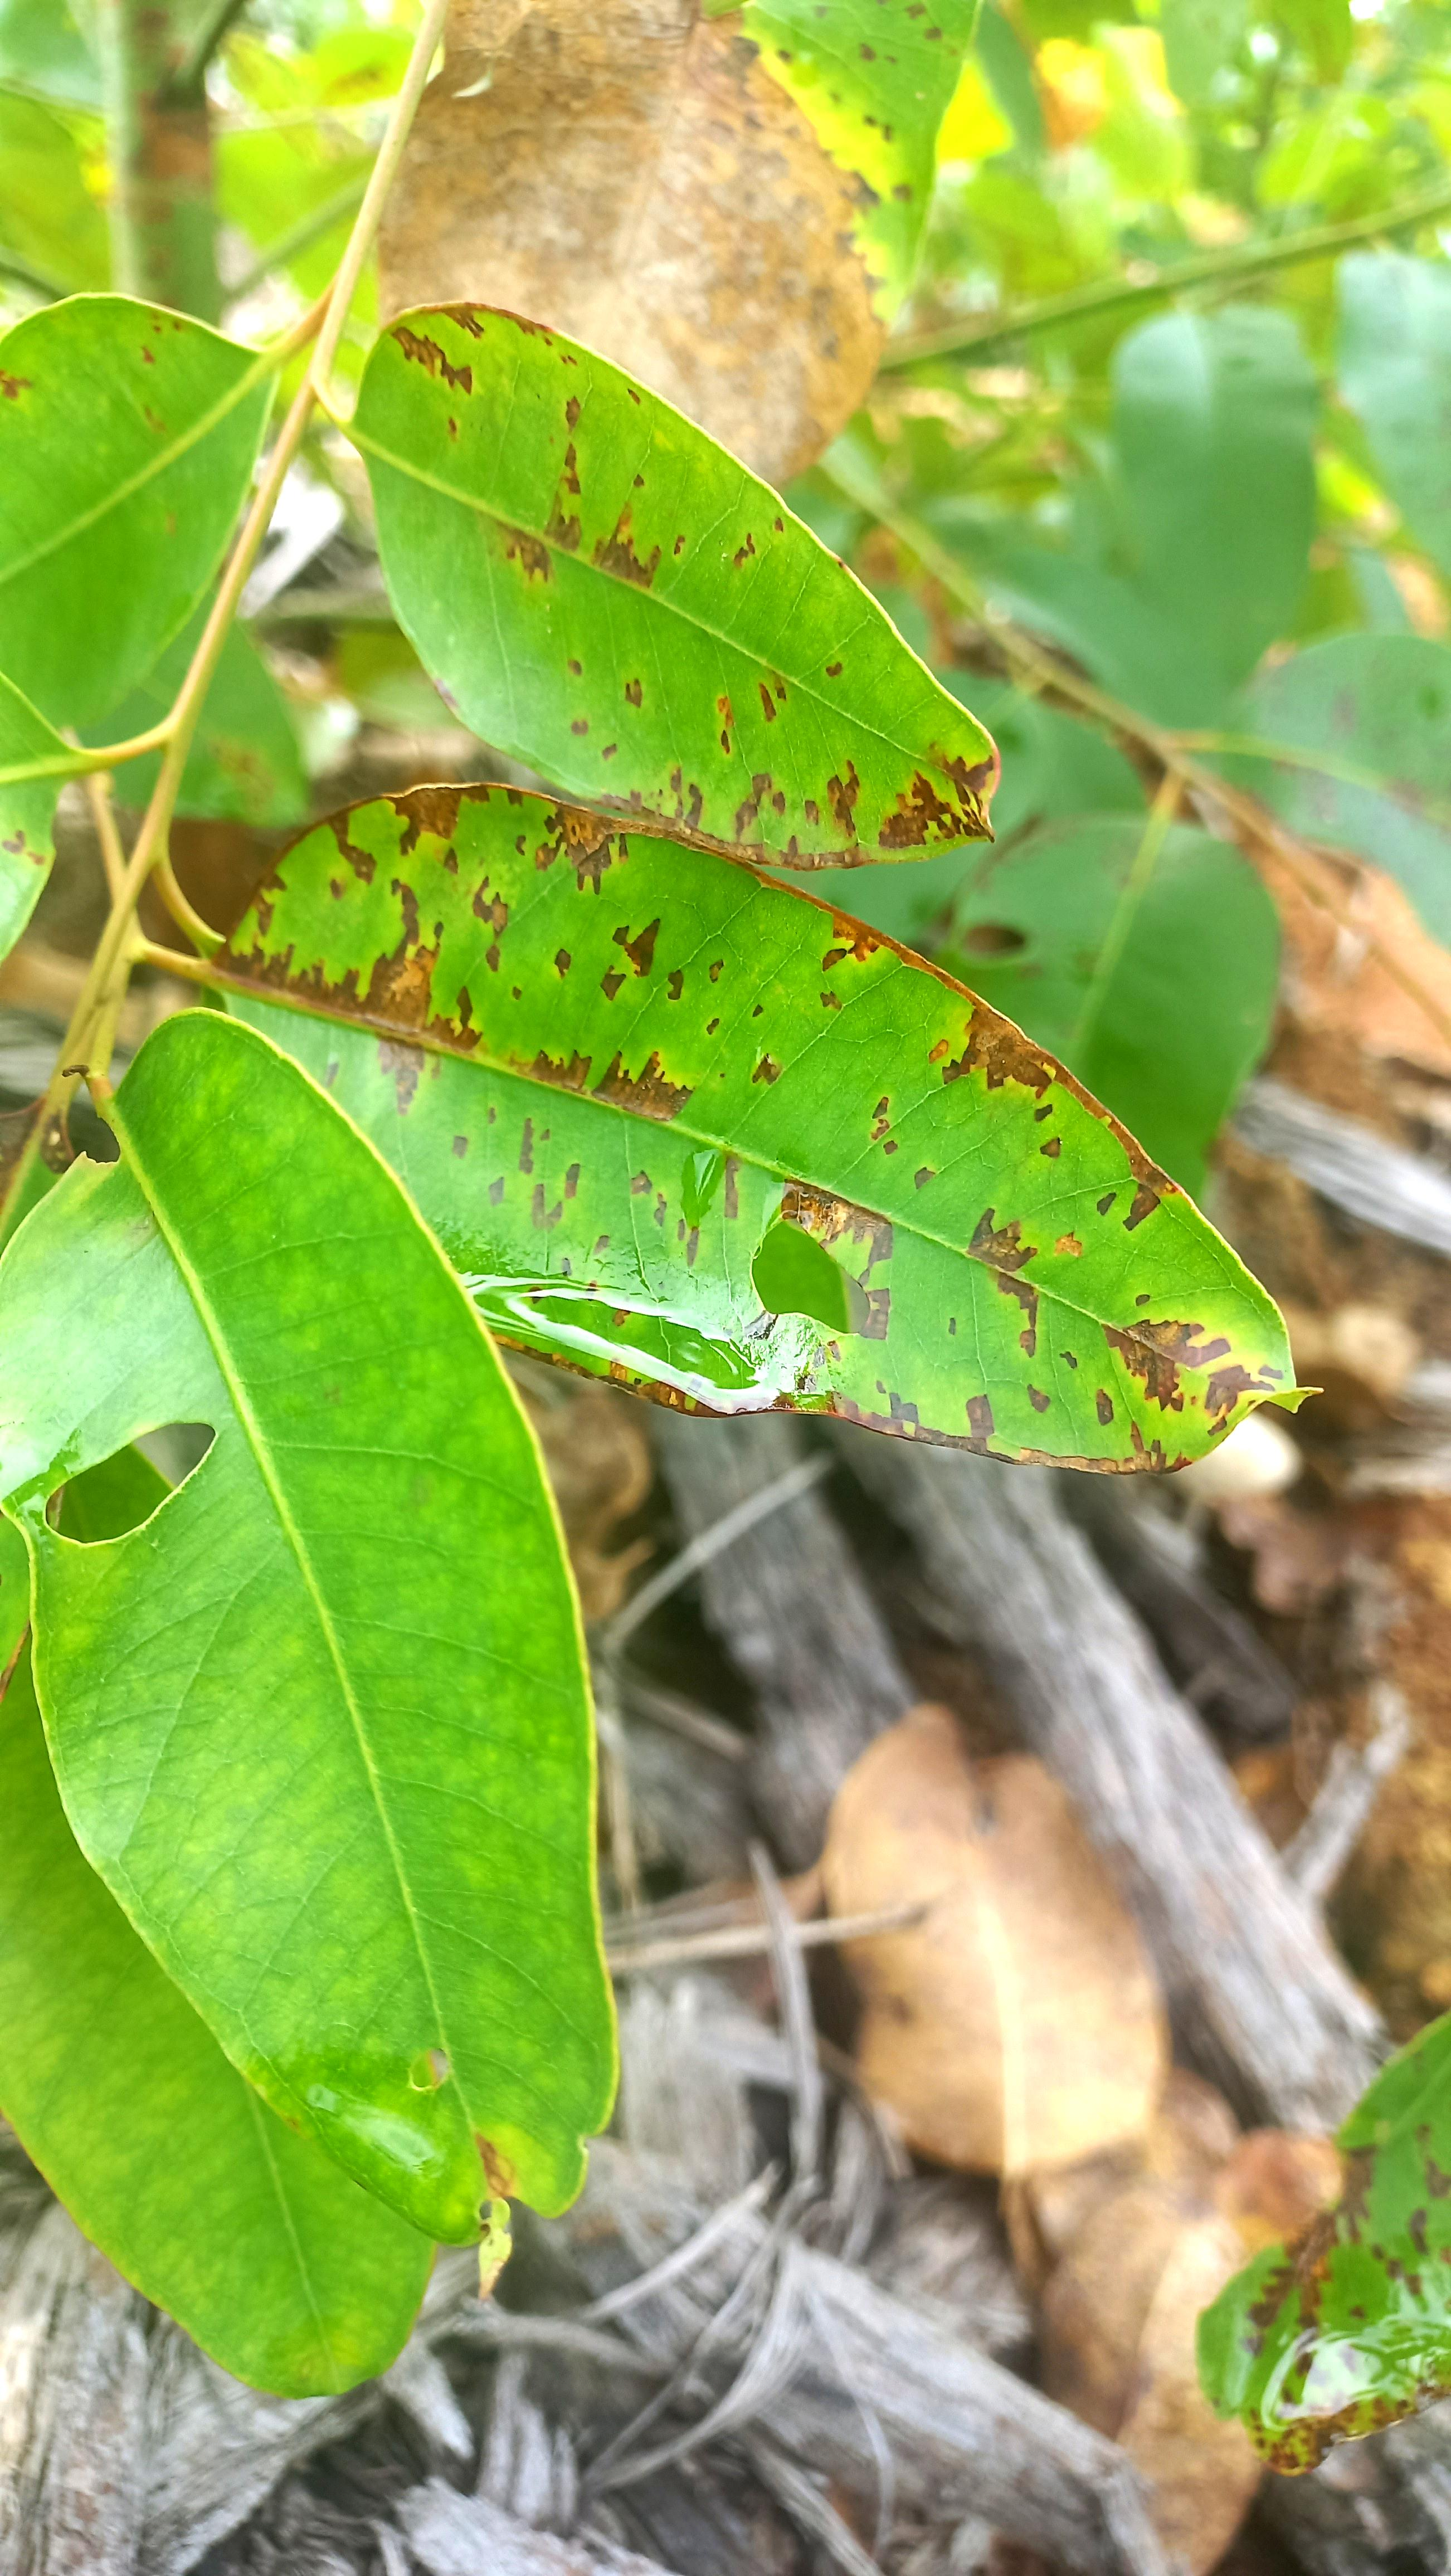Xanthomonas: (172, 809, 1327, 1495), (357, 269, 1010, 794)
